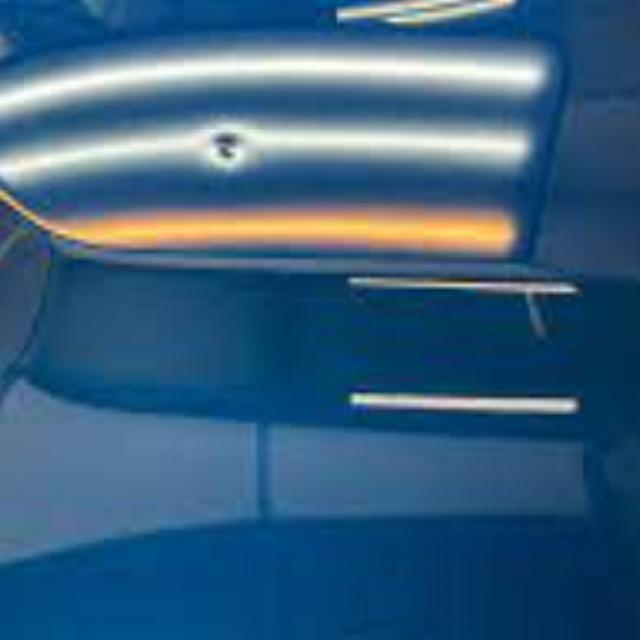dents: (198, 101, 270, 200)
